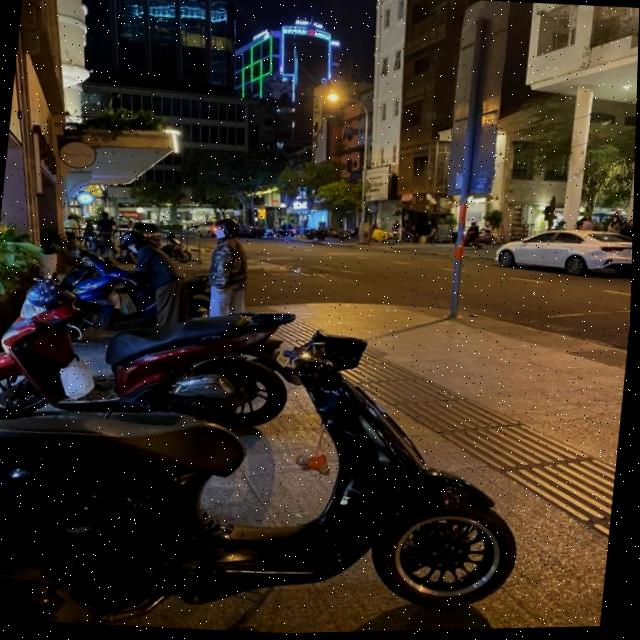car: (486, 213, 633, 282)
motorcycle: (0, 304, 542, 640), (0, 273, 310, 437)
